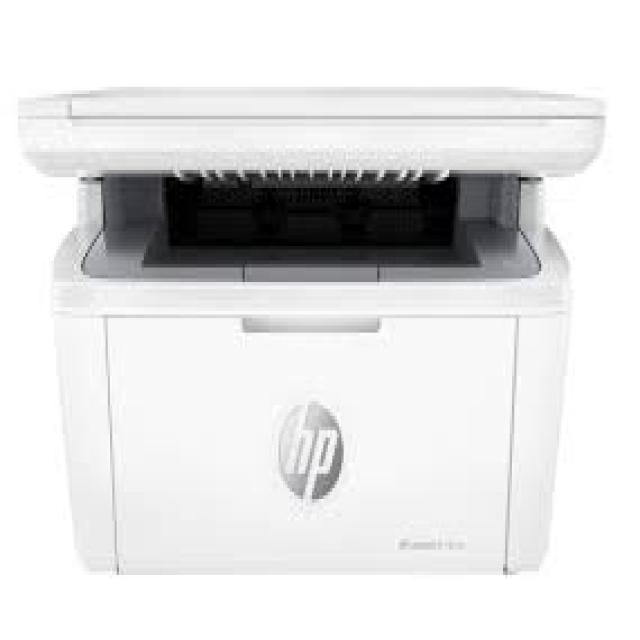printer: (16, 79, 606, 575)
